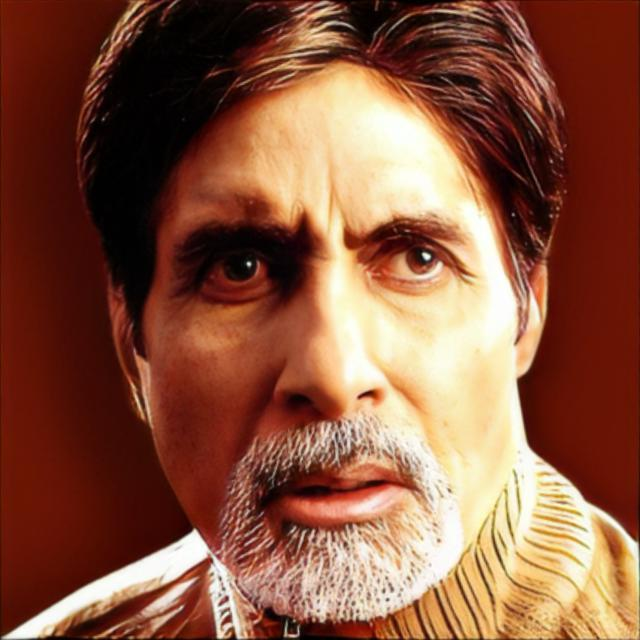anger: (141, 51, 516, 626)
